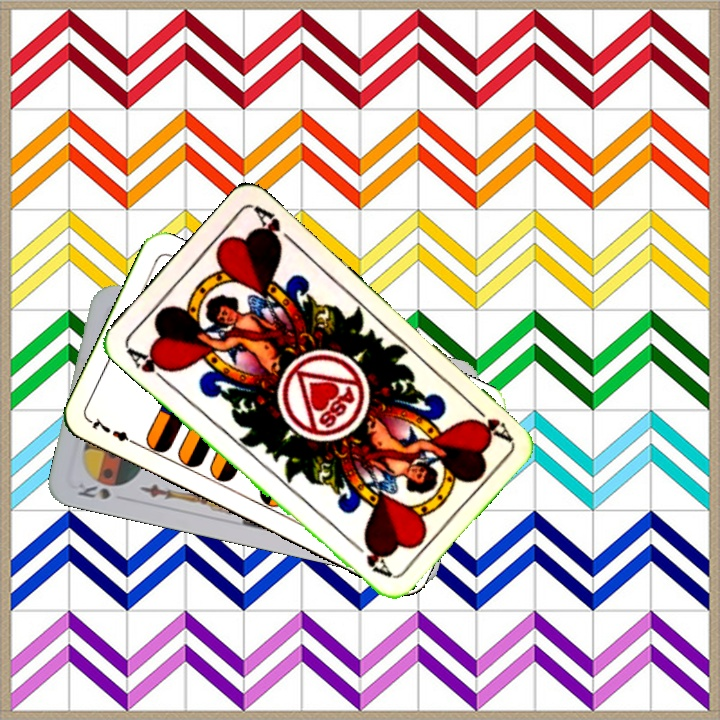E7: (86, 414, 141, 449)
HA: (122, 343, 175, 388), (465, 398, 514, 444)
SK: (73, 478, 113, 502)
